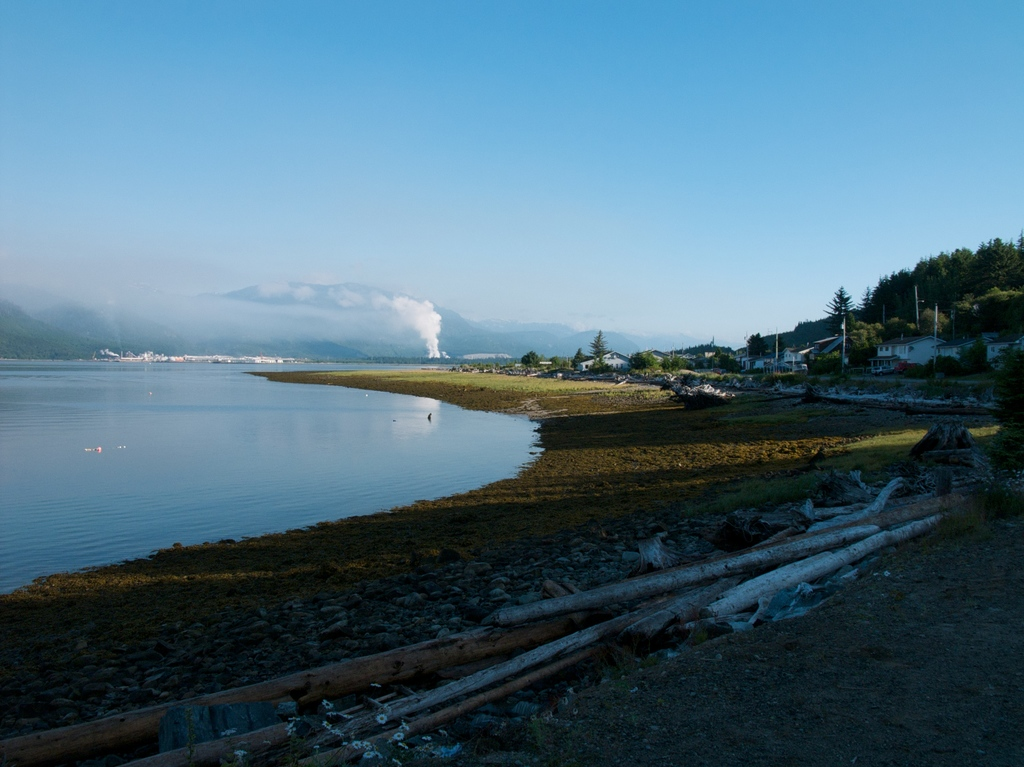Tree: (851, 215, 1023, 416), (823, 280, 859, 334), (592, 330, 607, 378), (743, 331, 768, 359), (521, 346, 545, 372), (570, 346, 588, 371)
